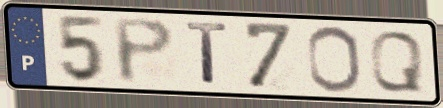5: (53, 13, 110, 85)
7: (241, 19, 298, 92)
O: (305, 24, 365, 95)
P: (110, 16, 177, 87)
Q: (367, 29, 425, 95)
T: (183, 20, 230, 88)
